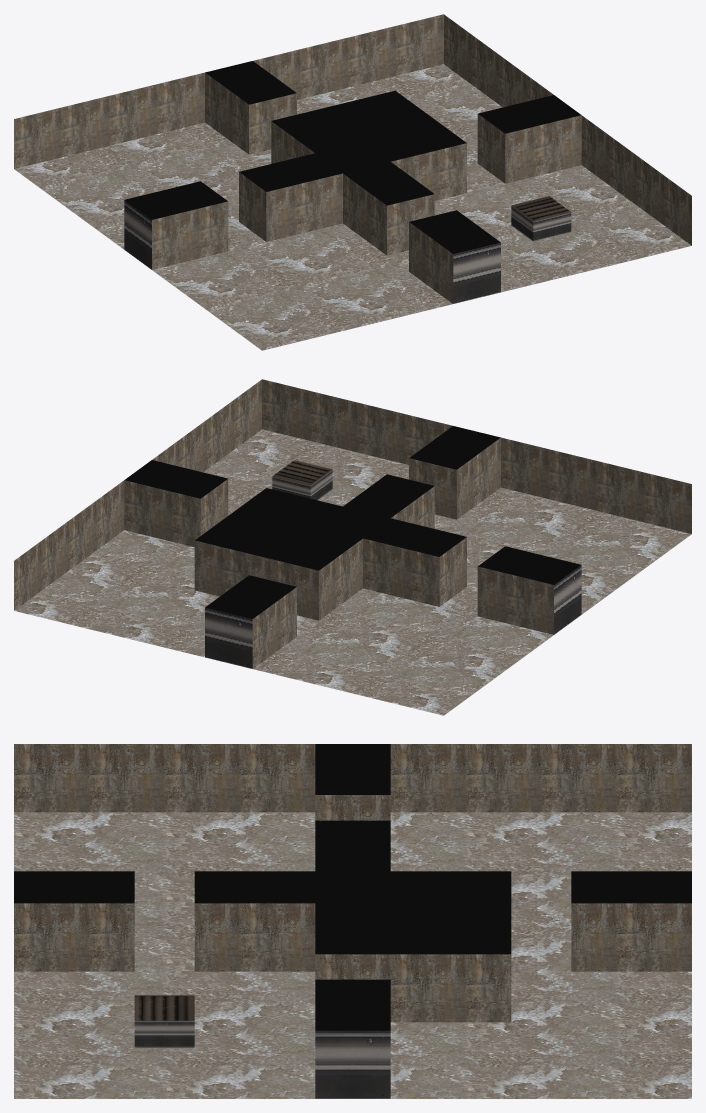
The model's file is vg_lair_battle.glb.
The picture shows the model from 3 angles, top to bottom: view 1: azimuth 30°, elevation 25°; view 2: azimuth 150°, elevation 25°; view 3: azimuth 270°, elevation 25°; orthographic projection. The views are drawn at different scales.
Parts seen in each view (by area): view 1: room-col; view 2: room-col; view 3: room-col.
Part boxes in pixels (left/top/right/bottom): room-col: left=14, top=14, right=691, bottom=350; room-col: left=14, top=379, right=691, bottom=715; room-col: left=14, top=744, right=691, bottom=1098.
Size of the model in its own units: 90 by 10 by 90.
Materials: 5 (4 with a texture image).
